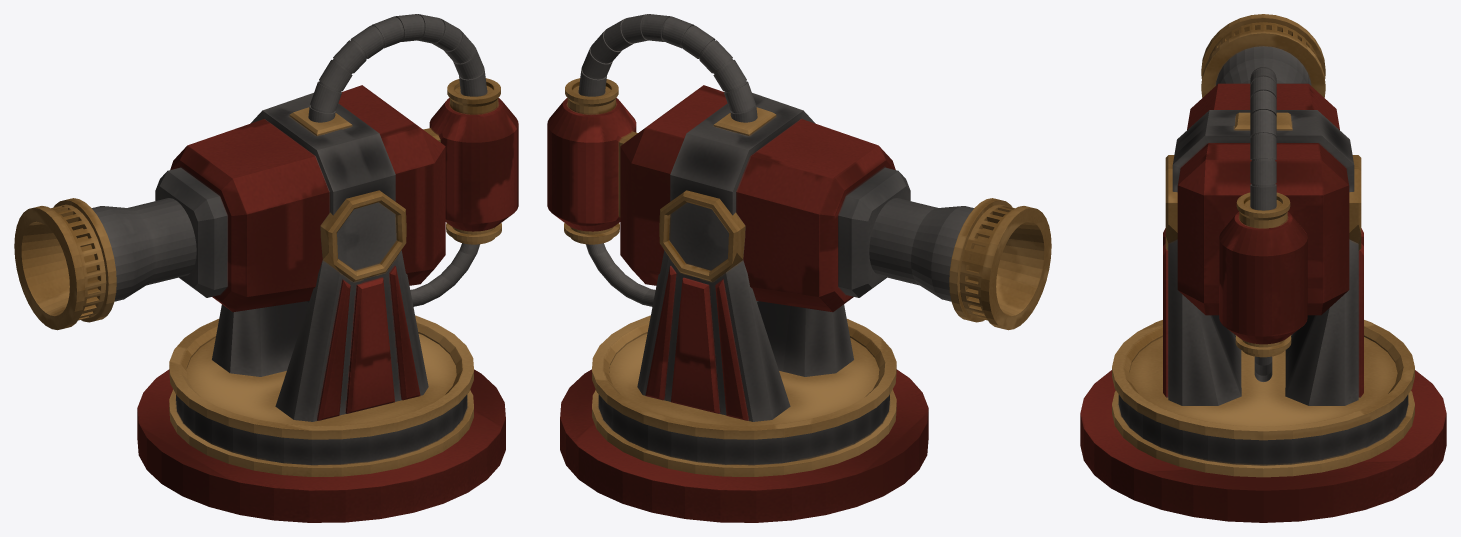
File: FireGun.fbx
3 views of the same model, side by side, from view 1: azimuth 30°, elevation 25°; view 2: azimuth 150°, elevation 25°; view 3: azimuth 270°, elevation 25° (orthographic).
Visible parts, largest first — view 1: Circle.016, Circle.014; view 2: Circle.016, Circle.014; view 3: Circle.014, Circle.016.
Boxes of the visible parts, <box> form: Circle.016: <box>14,14,518,330</box>; Circle.014: <box>137,190,505,522</box>; Circle.016: <box>547,14,1051,330</box>; Circle.014: <box>560,190,928,522</box>; Circle.014: <box>1080,155,1446,522</box>; Circle.016: <box>1172,14,1354,381</box>.
Size of the model in its own units: 74.32 by 62.24 by 50.88.
Materials: 1 (1 with a texture image).
